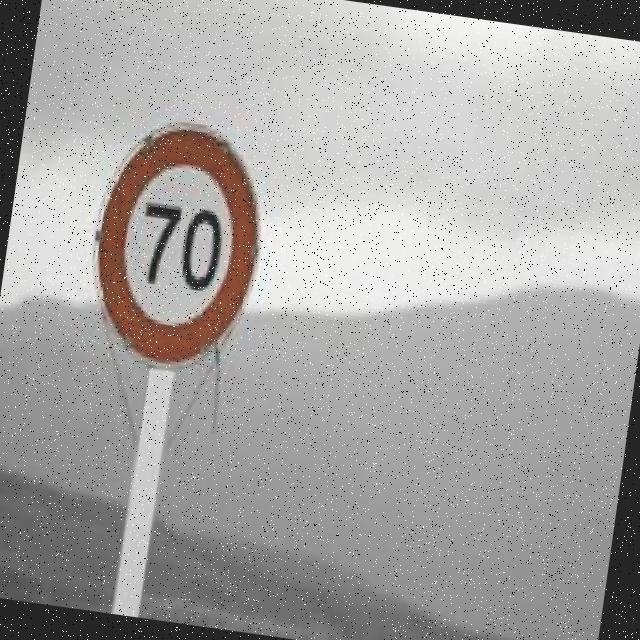Ograniczenie predkosci do 70: (75, 106, 282, 386)
